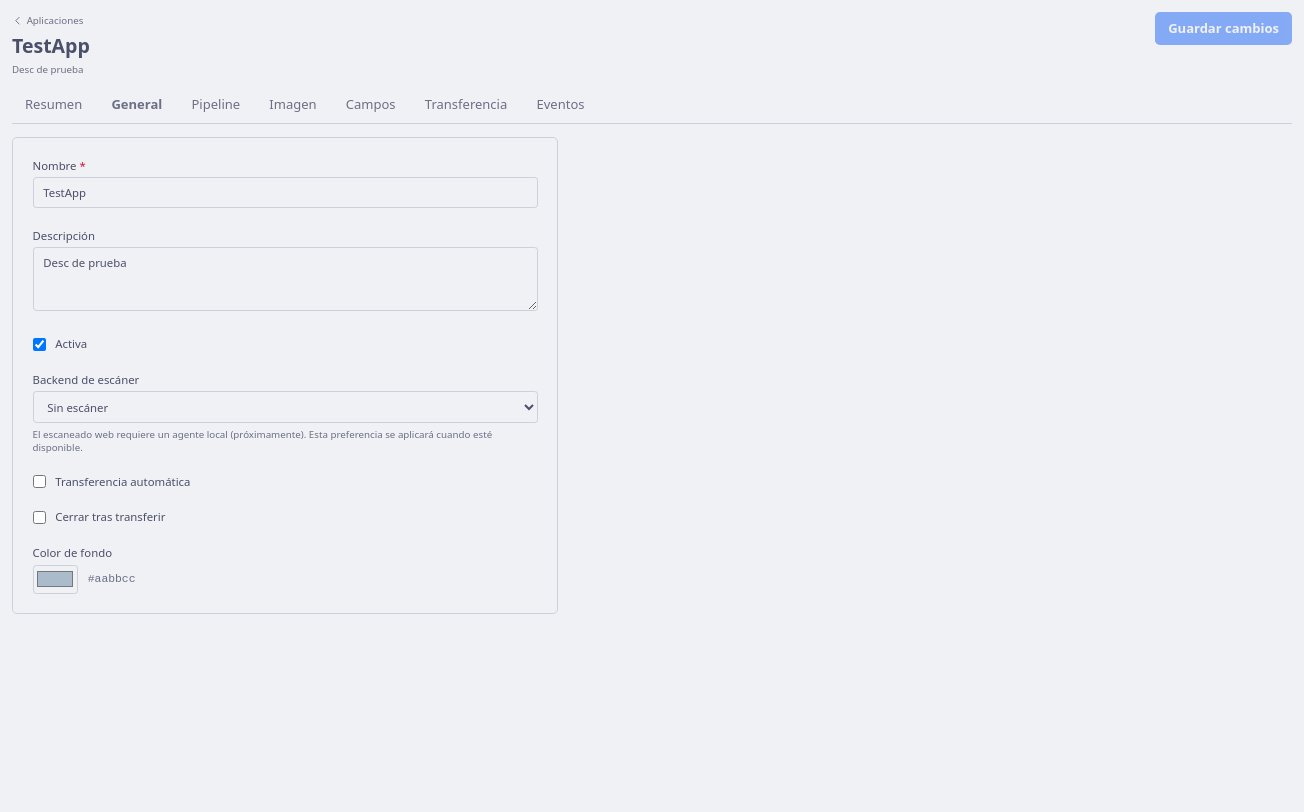
GeneralConfigEditorView › 4. cambiar scanner_backend activa hasChanges y muestra el texto informativo
This screenshot has width=1304, height=812.
Step 1. Select "TWAIN (Windows)" in the dropdown with test id "field-scanner-backend" → (285, 407), box [32,391,538,423]
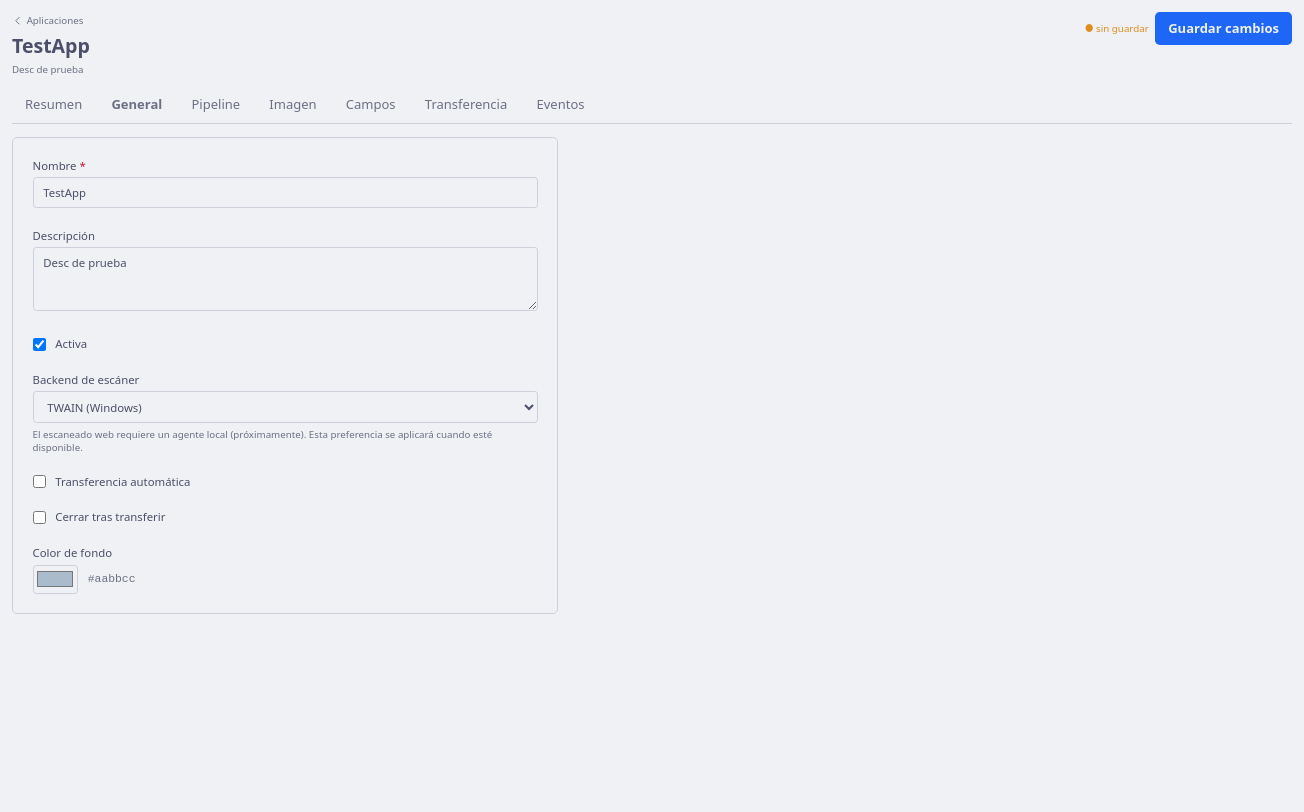
Expected: the text with test id "scanner-backend-note" is shown, [32,428,538,454]
Expected: the button with test id "save-general" is enabled, [1155,12,1292,44]
